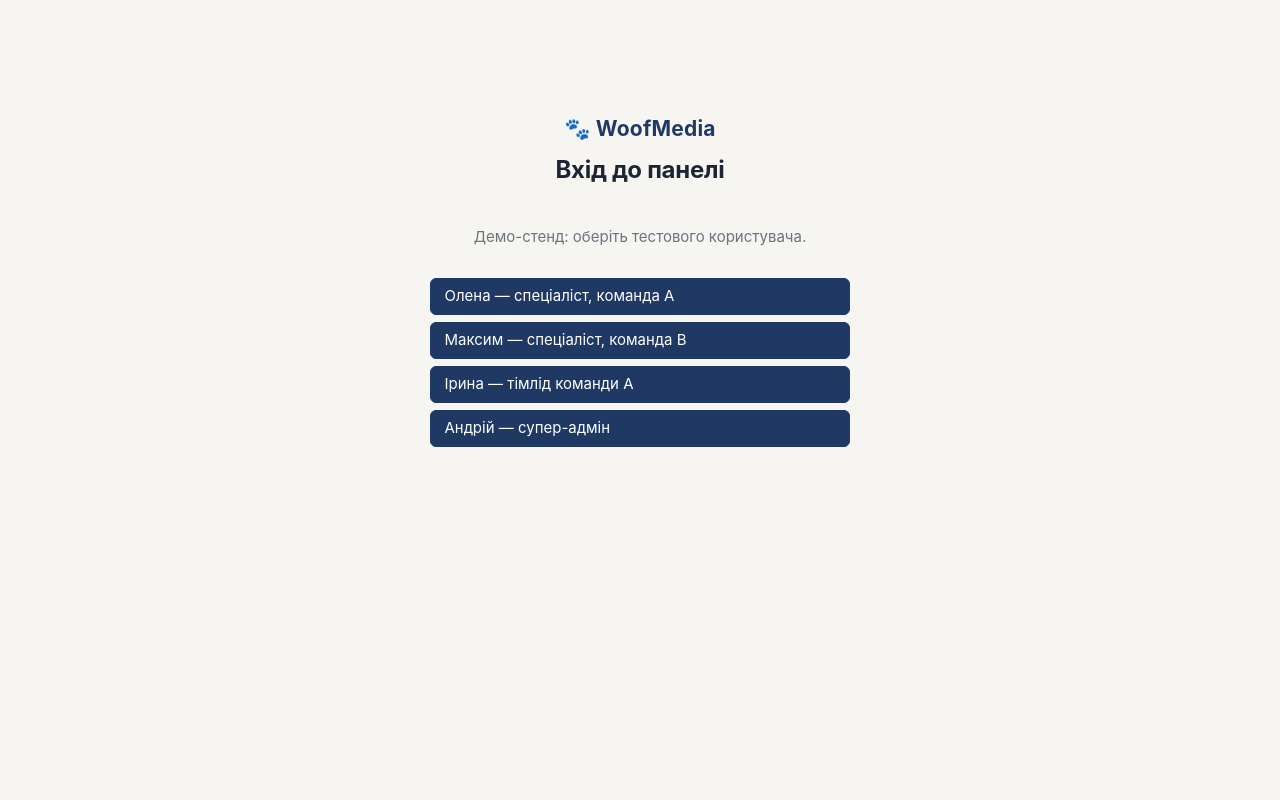
Test case: Б-16: зміна ролі враховується без перезапуску (лише UX) › 403 → повторний /me з меншими можливостями → меню перебудовано
Click the button "Андрій — супер-адмін": (527, 428) [430,410,850,447]
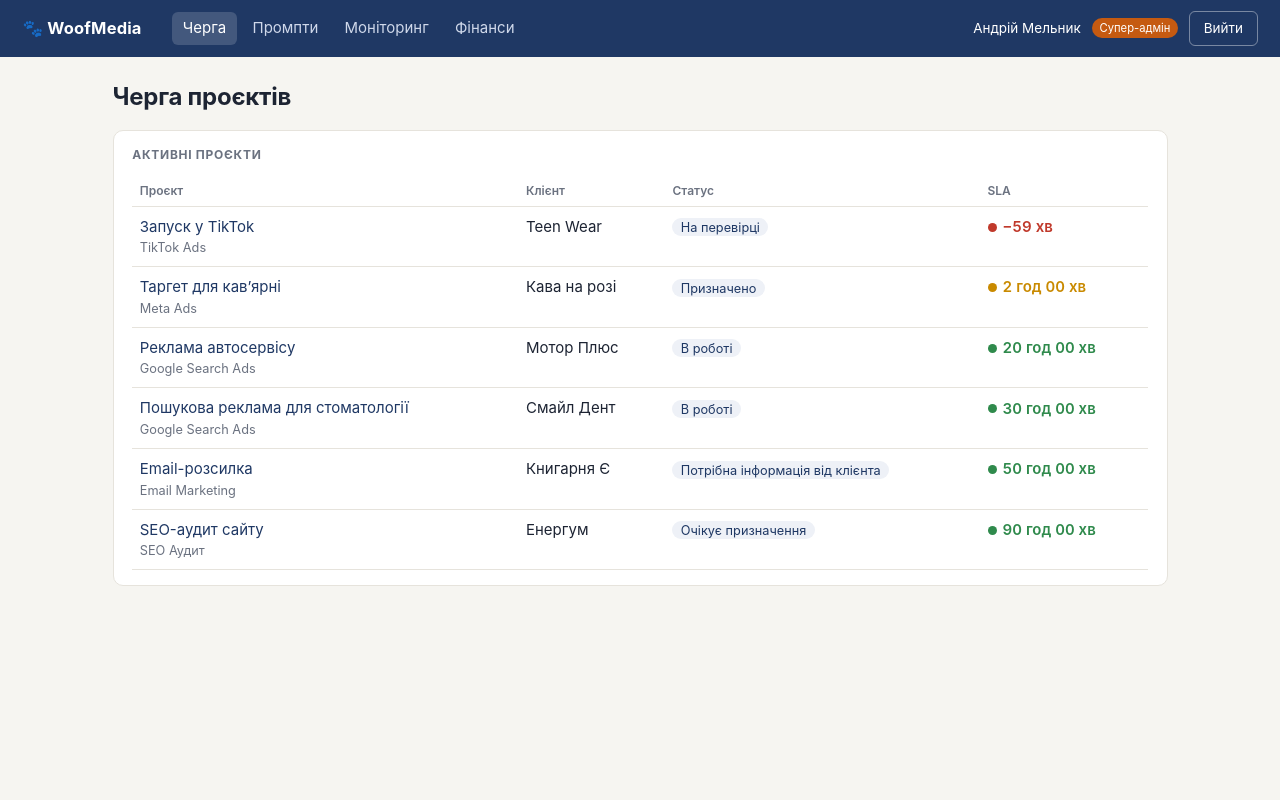
Expected: the link "Фінанси" is shown
Click the link "Фінанси": (485, 28) [455,18,514,37]
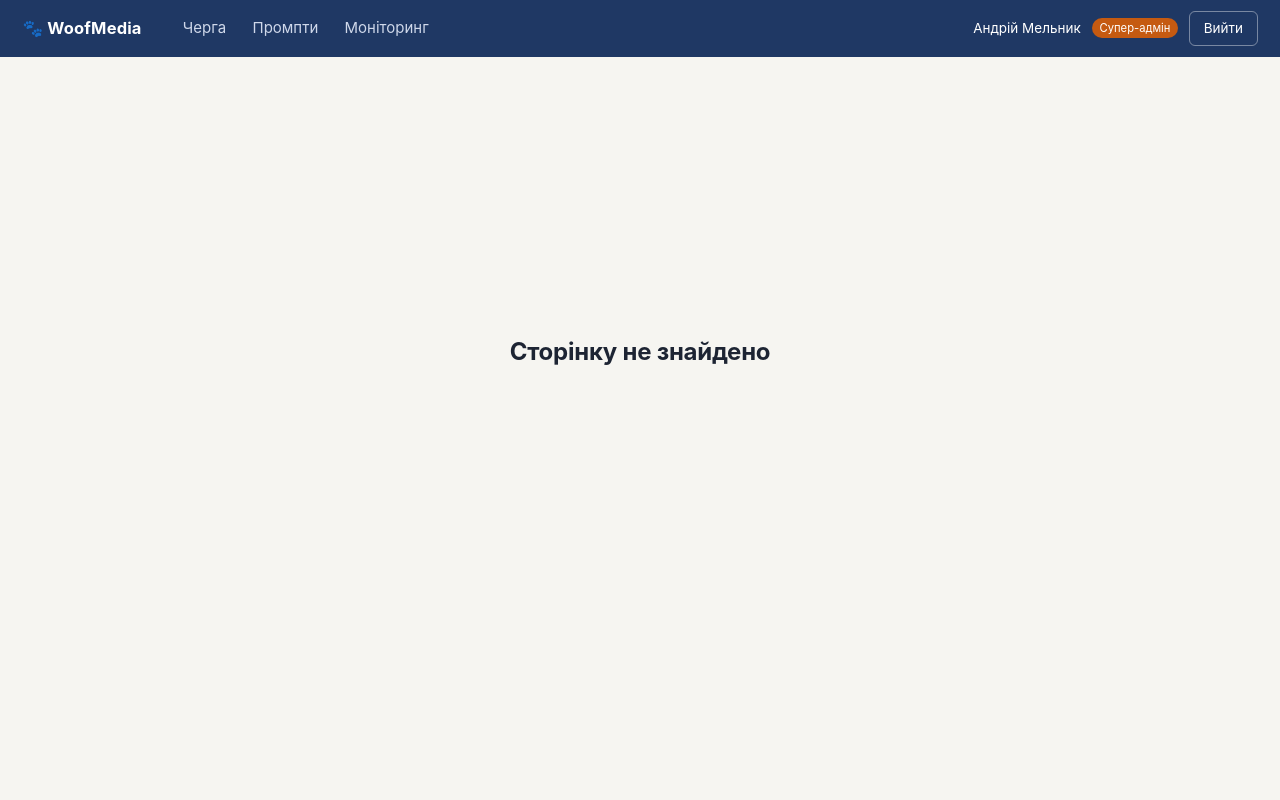
Expected: the link "Фінанси" no longer shows "Фінанси"
